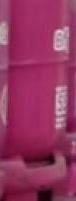cylinder: (1, 0, 76, 201)
